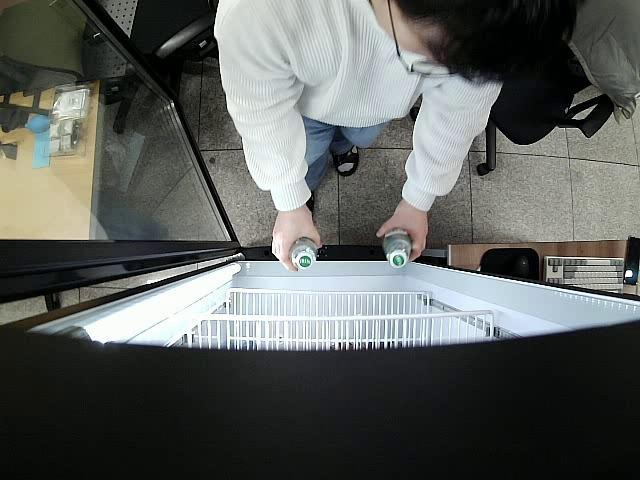18_trevi: (382, 224, 412, 270), (289, 235, 320, 269)
